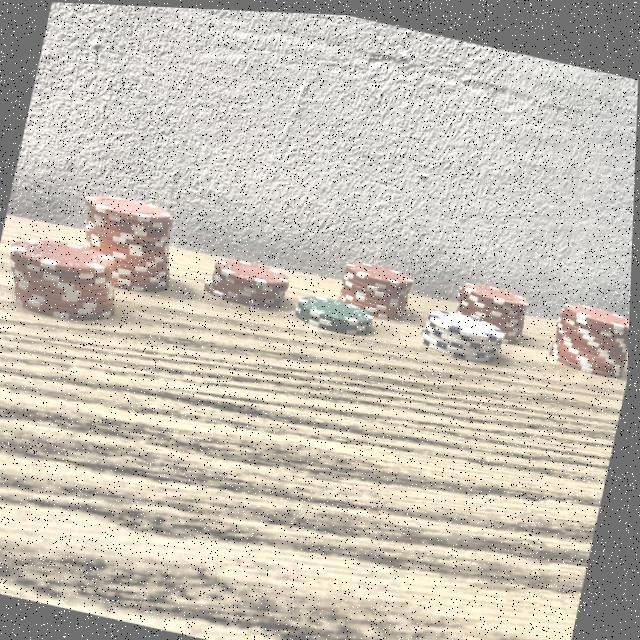Chip: (0, 209, 138, 335), (63, 178, 189, 301), (540, 282, 632, 381), (197, 240, 304, 320), (413, 297, 523, 368), (446, 272, 535, 356), (334, 247, 422, 329), (291, 285, 384, 343)
